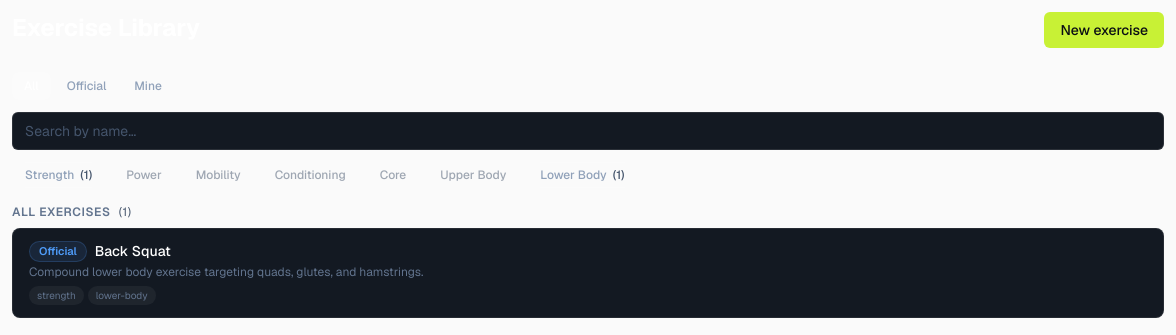
ExercisesPage — filter chips › shows "Clear filters" button when a filter is active
expect the text "Back Squat" is shown: met, box [95,241,171,261]
Click the button "Strength(1)": (59, 175) [12,162,105,188]
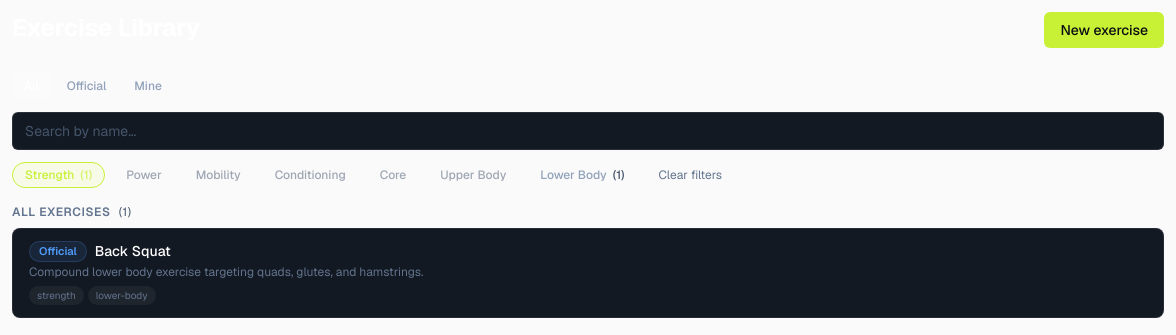
expect the button "Clear filters" is shown: met, box [646,162,735,188]
